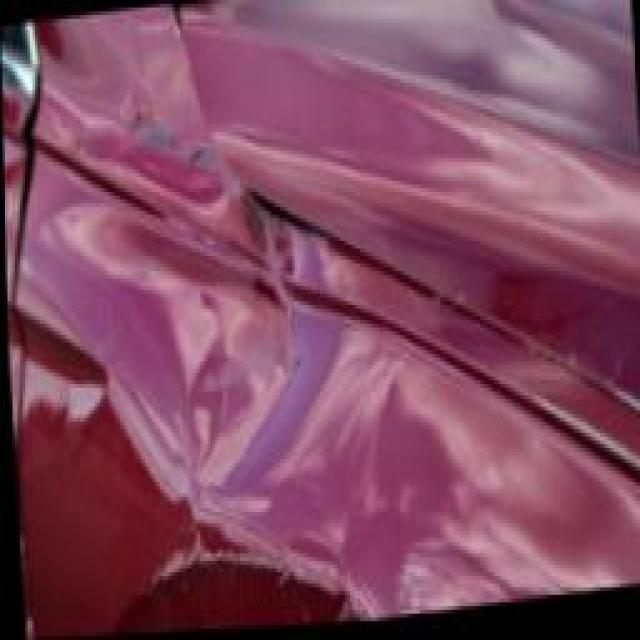Fender: (78, 184, 498, 635)
